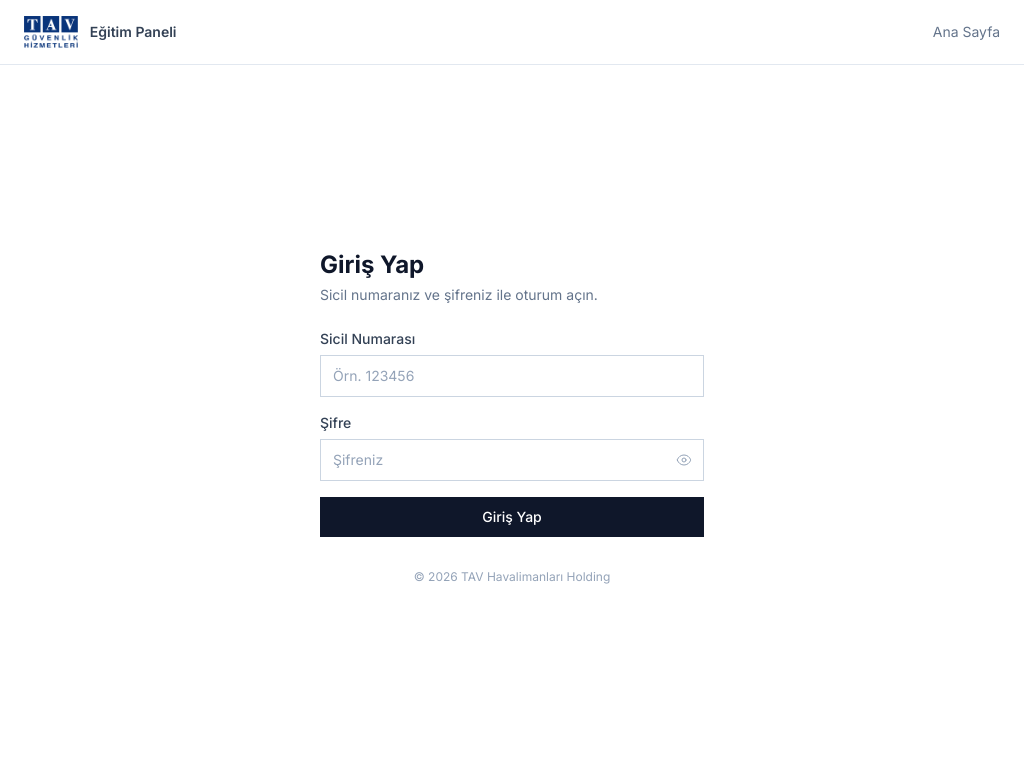
Scenario: LoginPage › displays error message on failure
Type "WRONG" into the field labelled "Sicil Numarası" at (512, 376), box [320,354,704,396]
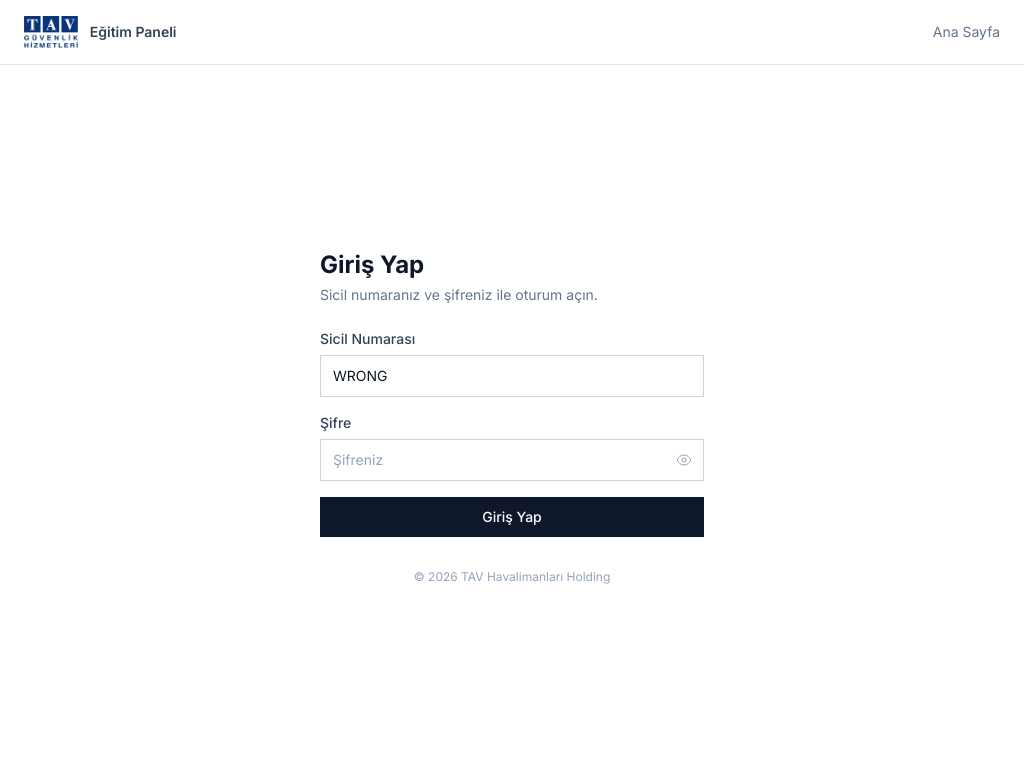
Type "pass" into the password field labelled "Şifre" at (512, 460), box [320,438,704,480]
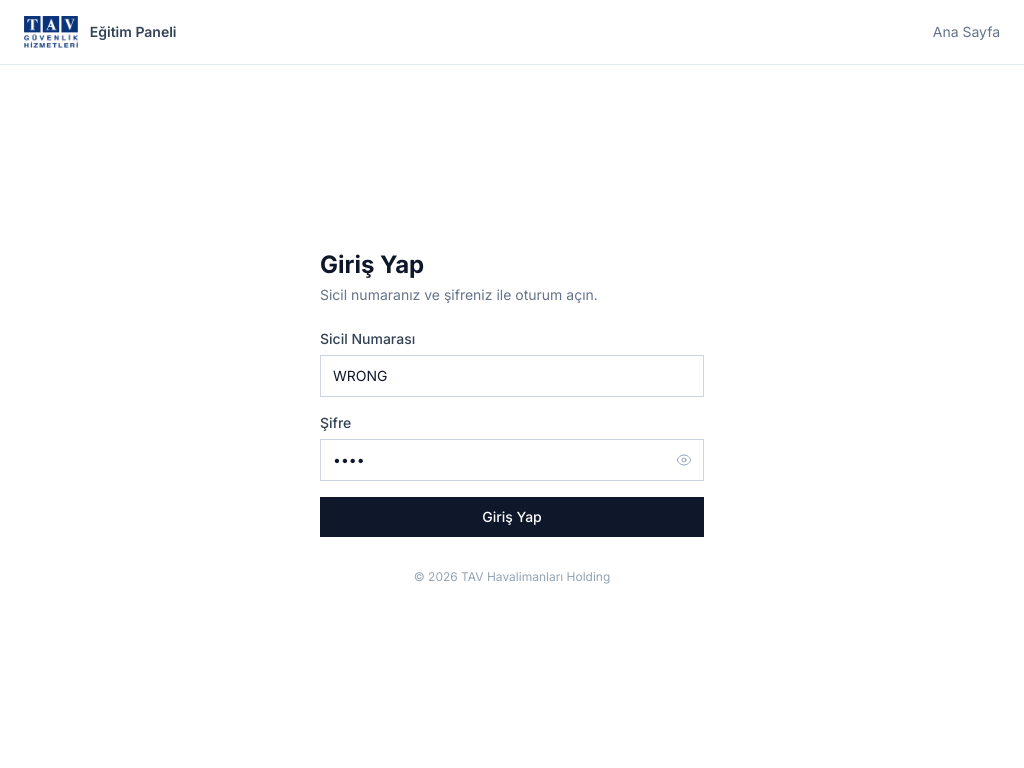
Click the button "Giriş Yap" at (512, 516), box [320,496,704,536]
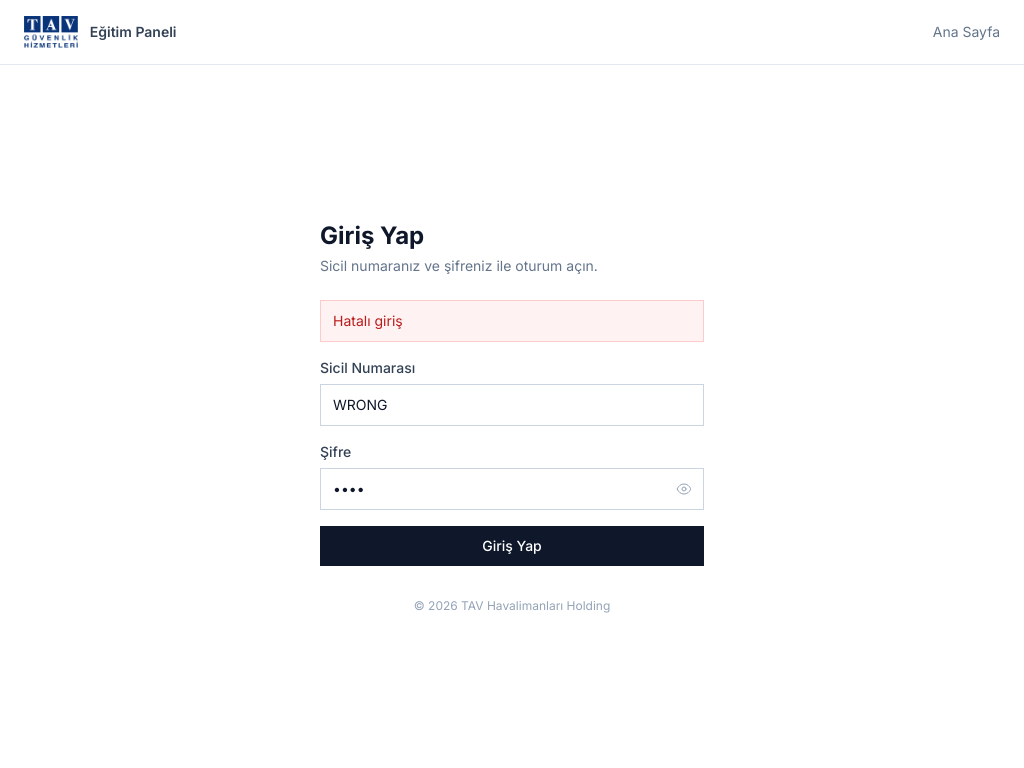
Expected: the text "Hatalı giriş" is shown, [320,300,704,342]
